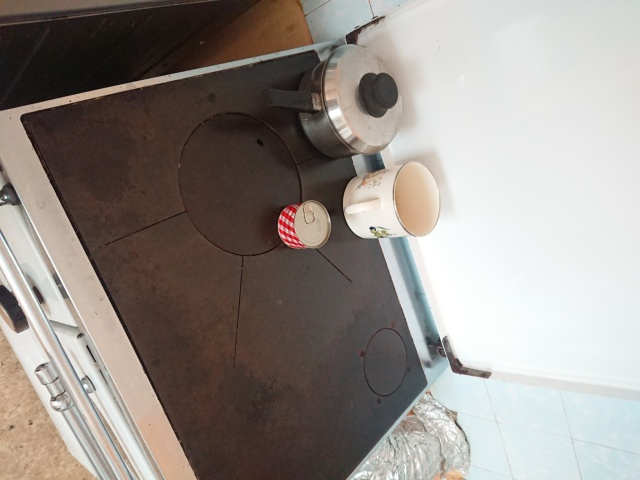Podravka Luncheon Meat 150g: (274, 198, 333, 252)
